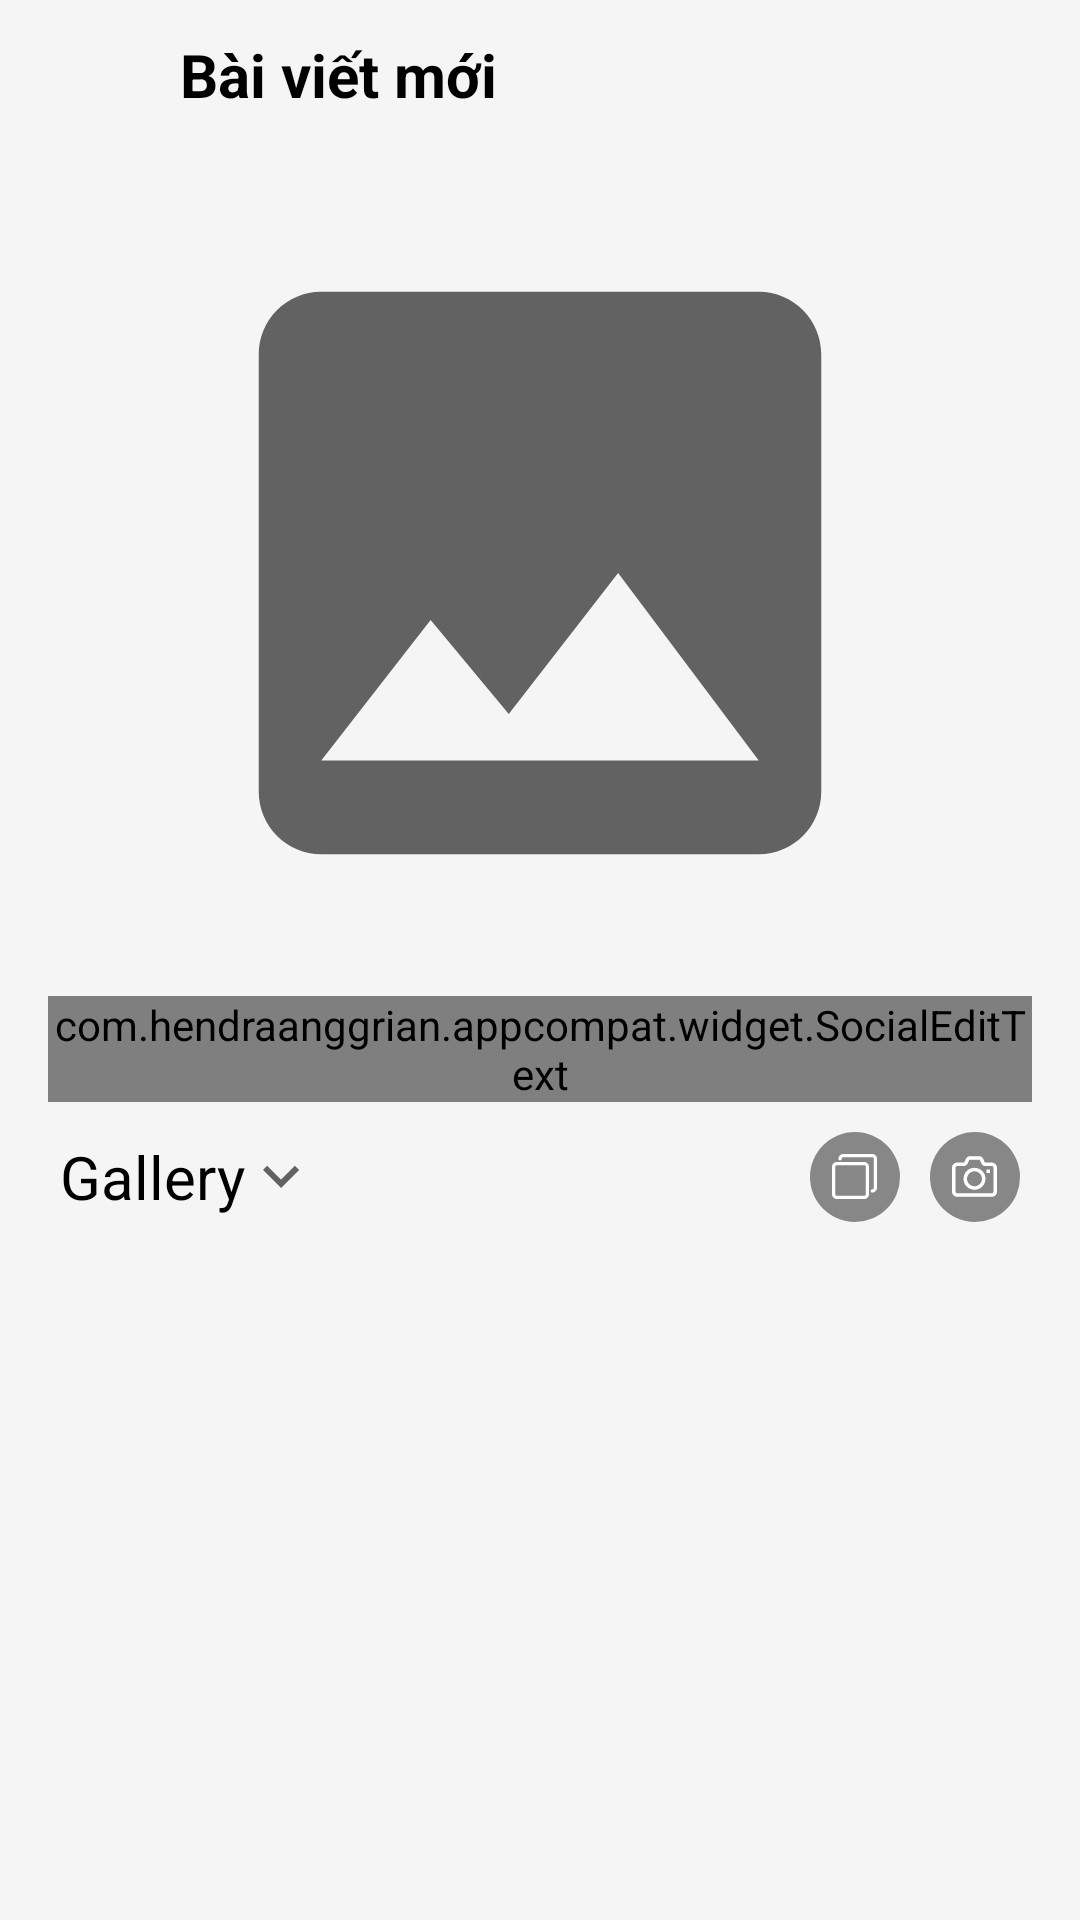

Icon click points for this 1080px x 1920px phone screenshot, format (x=x, y=y):
arrow down: (x=281, y=1177)
camera: (x=974, y=1176)
